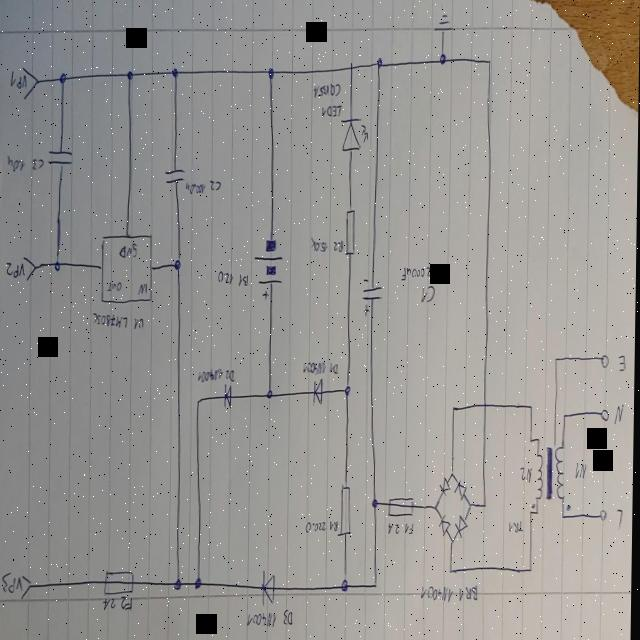capacitor: (362, 278, 385, 320), (48, 149, 74, 171), (165, 167, 187, 187)
crossover: (485, 402, 489, 410)
diode: (340, 118, 371, 154), (262, 570, 278, 608), (314, 379, 326, 407), (457, 516, 471, 539), (224, 384, 235, 410), (441, 516, 453, 538), (457, 482, 469, 502), (441, 479, 453, 498)
ground: (434, 14, 455, 34)
junction: (58, 71, 70, 89), (195, 576, 205, 592), (341, 578, 351, 594), (268, 66, 277, 82), (174, 258, 183, 274), (127, 70, 136, 84), (439, 53, 448, 67), (176, 578, 185, 592), (267, 388, 275, 402), (172, 68, 180, 82), (55, 260, 63, 274), (376, 58, 384, 72), (373, 498, 381, 511), (346, 385, 353, 397), (487, 58, 493, 70), (198, 398, 204, 408), (435, 504, 441, 514), (349, 63, 355, 73), (375, 582, 381, 592), (470, 502, 475, 512), (453, 405, 458, 415), (452, 471, 458, 479), (485, 502, 490, 510), (555, 357, 560, 365), (530, 567, 535, 575), (563, 514, 568, 522), (451, 568, 455, 576), (565, 413, 569, 421), (531, 404, 535, 412), (453, 538, 457, 546), (531, 511, 535, 519), (530, 438, 534, 446), (537, 511, 541, 517), (538, 438, 542, 443)
resistor: (341, 485, 354, 538), (346, 209, 358, 257)
source: (254, 240, 286, 304)
terminal: (24, 69, 40, 101), (25, 256, 39, 282), (23, 576, 35, 602), (602, 355, 612, 371), (602, 409, 611, 424), (601, 510, 610, 522)
text: (422, 584, 456, 606), (248, 609, 280, 631), (93, 313, 130, 332), (402, 265, 433, 283), (3, 572, 25, 596), (314, 83, 342, 101), (199, 368, 225, 386), (460, 584, 481, 604), (304, 360, 328, 377), (10, 71, 28, 92), (6, 156, 27, 174), (185, 180, 207, 197), (6, 262, 26, 280), (120, 244, 140, 262), (322, 104, 344, 120), (311, 236, 329, 255), (421, 286, 438, 306), (307, 520, 329, 534), (218, 270, 235, 288), (576, 461, 590, 482), (509, 520, 526, 536), (283, 609, 297, 628), (615, 405, 627, 427), (521, 467, 535, 484), (617, 508, 627, 531), (108, 281, 124, 295), (122, 596, 136, 612), (32, 157, 46, 173), (105, 597, 119, 613), (334, 239, 347, 256), (238, 274, 251, 290), (388, 522, 402, 536), (134, 316, 146, 332), (209, 180, 223, 193), (619, 354, 628, 374), (330, 362, 341, 378), (227, 369, 238, 384), (405, 522, 415, 538), (330, 520, 341, 534), (139, 283, 150, 297)
transformer: (537, 446, 569, 504)
